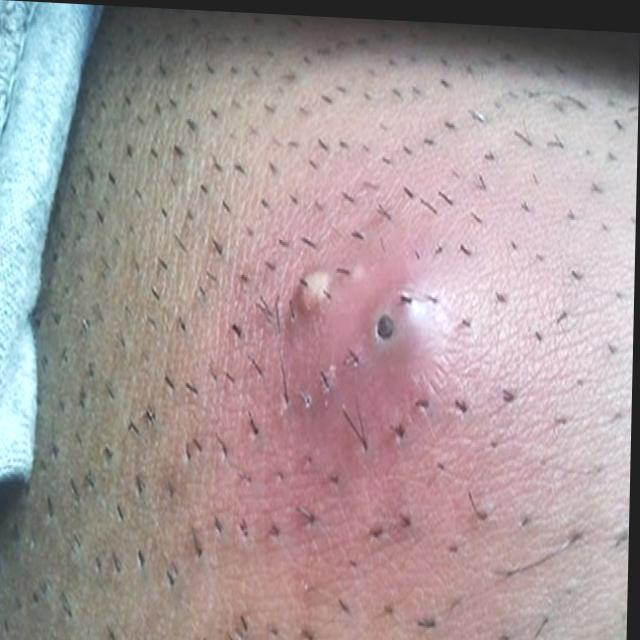dark spot: (371, 290, 405, 365)
